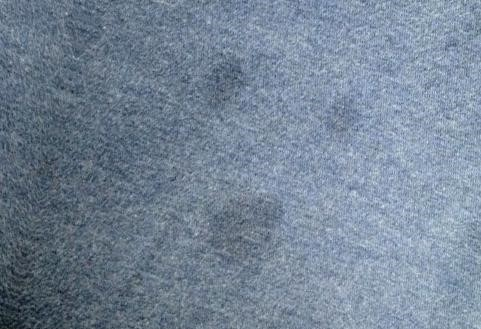stain: (207, 184, 292, 282), (203, 51, 258, 114), (316, 89, 374, 138)
